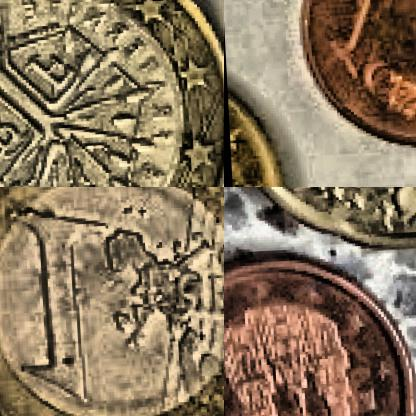coin: (0, 187, 223, 415), (0, 0, 223, 186), (224, 251, 415, 415), (288, 0, 415, 157)
